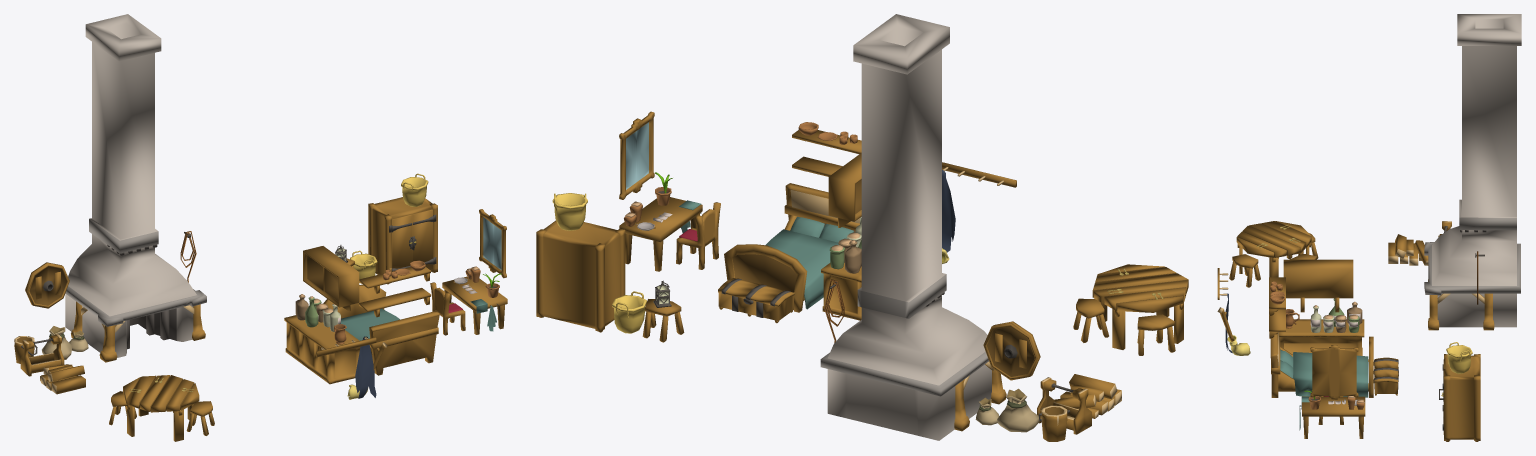
Rendered from house4_interior.fbx.
3 renders of one model, left to right at view 1: azimuth 30°, elevation 25°; view 2: azimuth 150°, elevation 25°; view 3: azimuth 270°, elevation 25°, orthographic. The views are drawn at different scales.
Parts seen in each view (by area): view 1: Empty_Mesh; view 2: Empty_Mesh; view 3: Empty_Mesh.
Boxes of the visible parts, bbox=[...] form: Empty_Mesh: bbox=[14, 14, 507, 441]; Empty_Mesh: bbox=[536, 14, 1188, 441]; Empty_Mesh: bbox=[1217, 14, 1521, 441].
Bounding box in the file's own units: 51.16 × 35.25 × 34.12.
